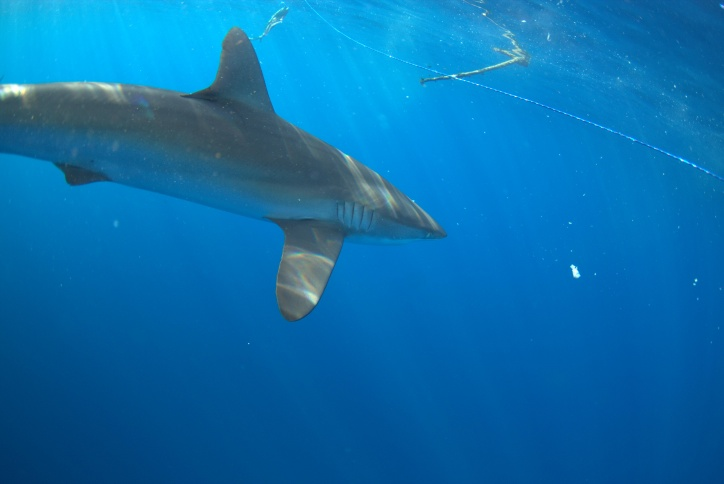Sedoso: (1, 24, 450, 319)
